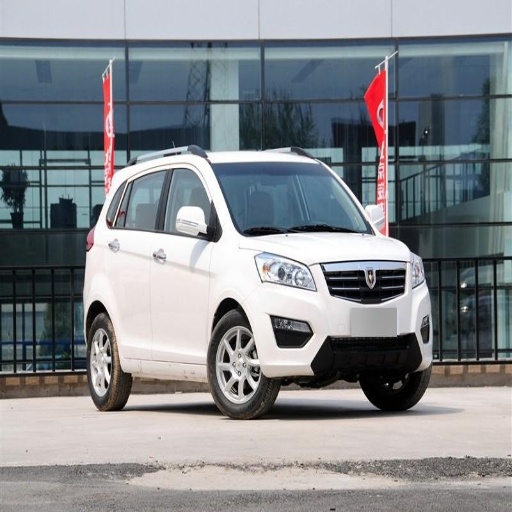front_bumper: (250, 259, 434, 375)
front_right_door: (150, 164, 219, 362)
front_right_light: (256, 255, 316, 290)
